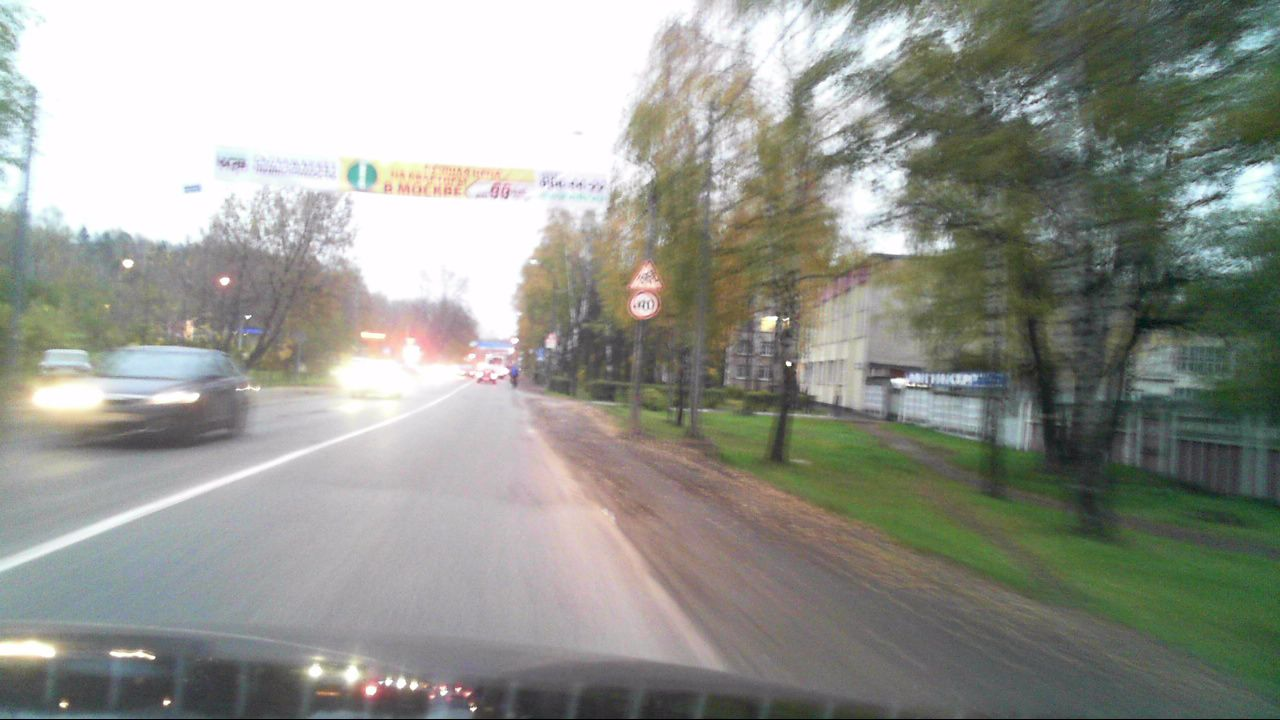speed_warning_40: (629, 290, 660, 321)
